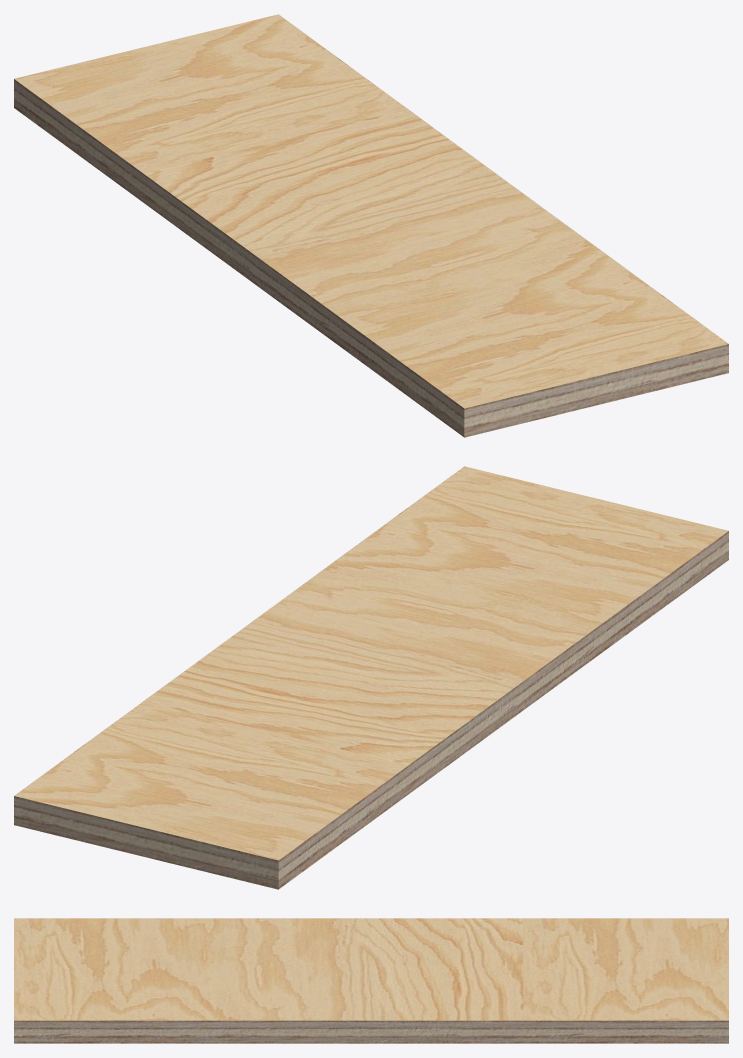
The model's file is wooden_plywood_plank.glb.
3 views of the same model, one above another, from view 1: azimuth 30°, elevation 25°; view 2: azimuth 150°, elevation 25°; view 3: azimuth 270°, elevation 25° (orthographic). The views are drawn at different scales.
Parts seen in each view (by area): view 1: woodenPlank_0; view 2: woodenPlank_0; view 3: woodenPlank_0.
Part boxes in pixels (<box>): woodenPlank_0: <box>14,14,728,437</box>; woodenPlank_0: <box>14,466,728,889</box>; woodenPlank_0: <box>14,918,728,1043</box>.
Bounding box in the file's own units: 0.1984 × 0.0209 × 0.585.
Materials: 1 (1 with a texture image).
